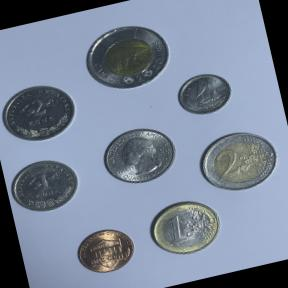coin: (74, 12, 180, 100), (190, 120, 288, 202), (93, 118, 184, 194), (0, 73, 85, 152), (141, 191, 229, 265), (68, 219, 142, 282), (170, 65, 238, 123)
